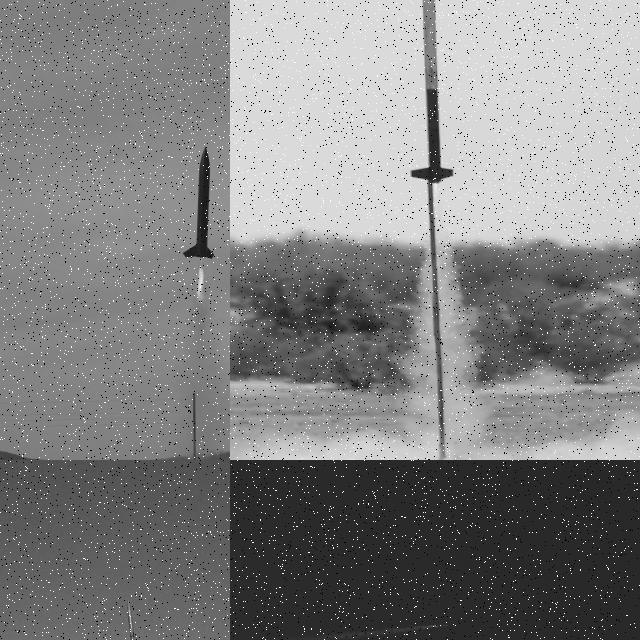Rocket: (411, 0, 455, 186), (182, 145, 216, 260), (126, 600, 140, 640), (434, 623, 449, 627)
